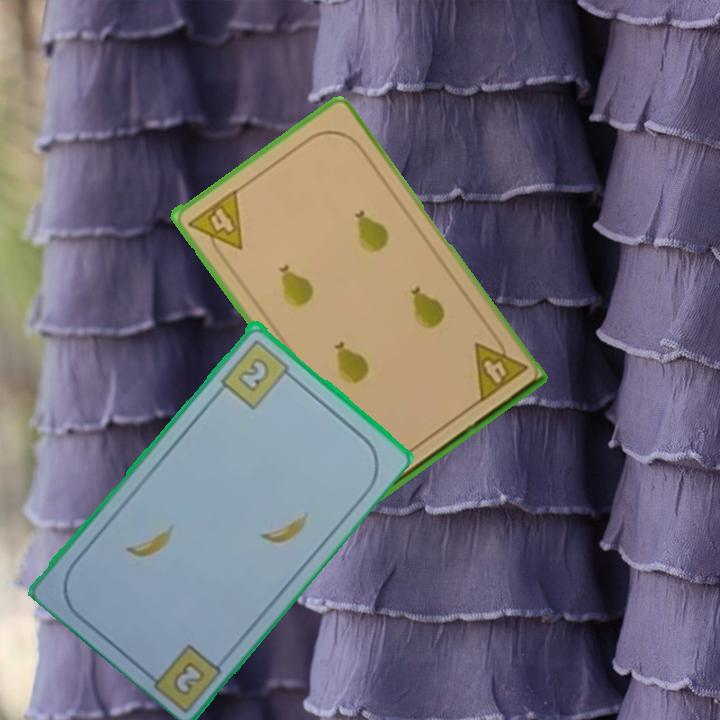2b: (217, 335, 298, 412), (169, 657, 208, 698)
4p: (184, 185, 246, 263), (470, 328, 531, 406)
